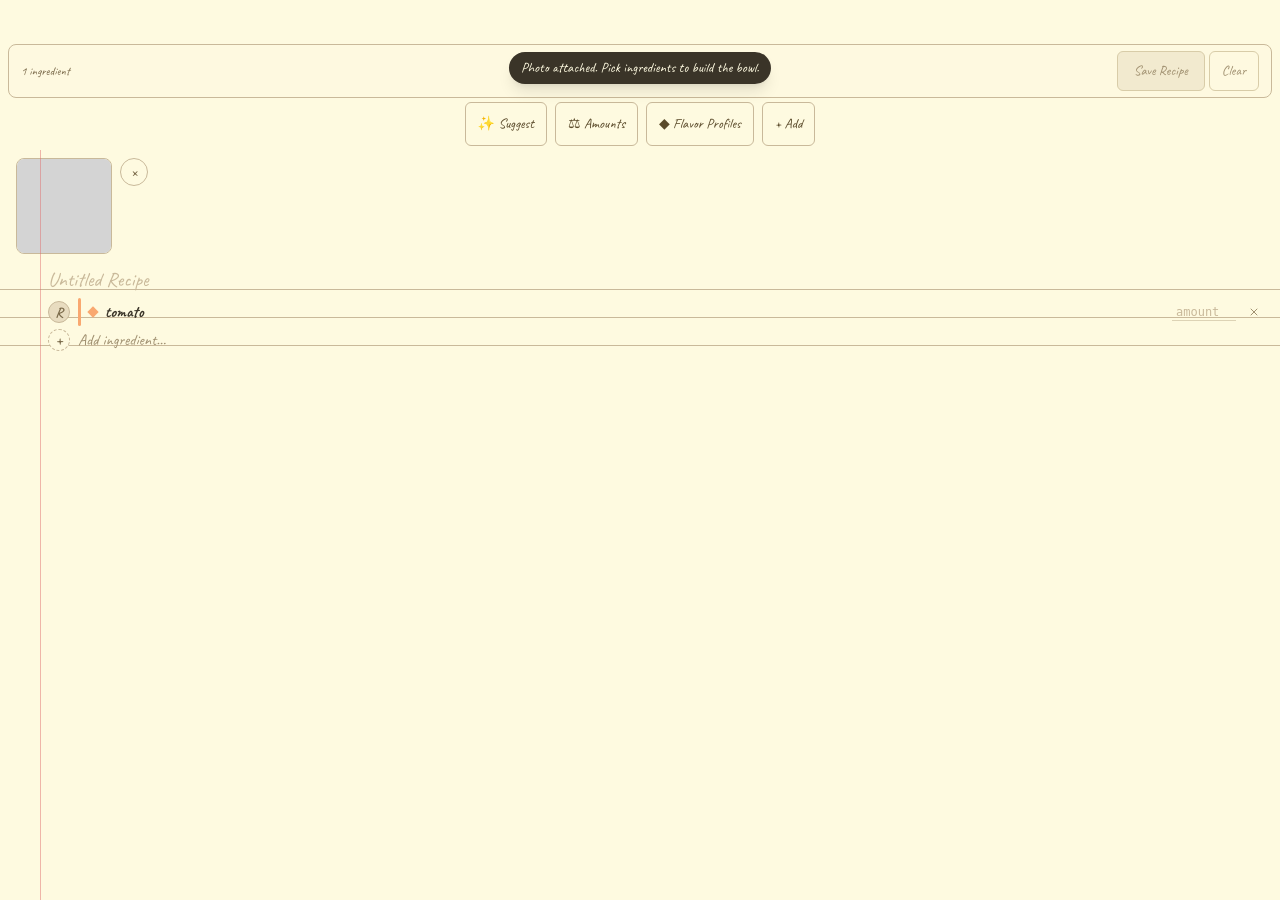
RecipeLabMobile — MAKE-PHOTO-PREVIEW (§5.3 image preview) › clearing the bowl (Clear button) revokes the object URL
Click the button "Clear": {"x": 1234, "y": 71} [1209,51,1259,91]
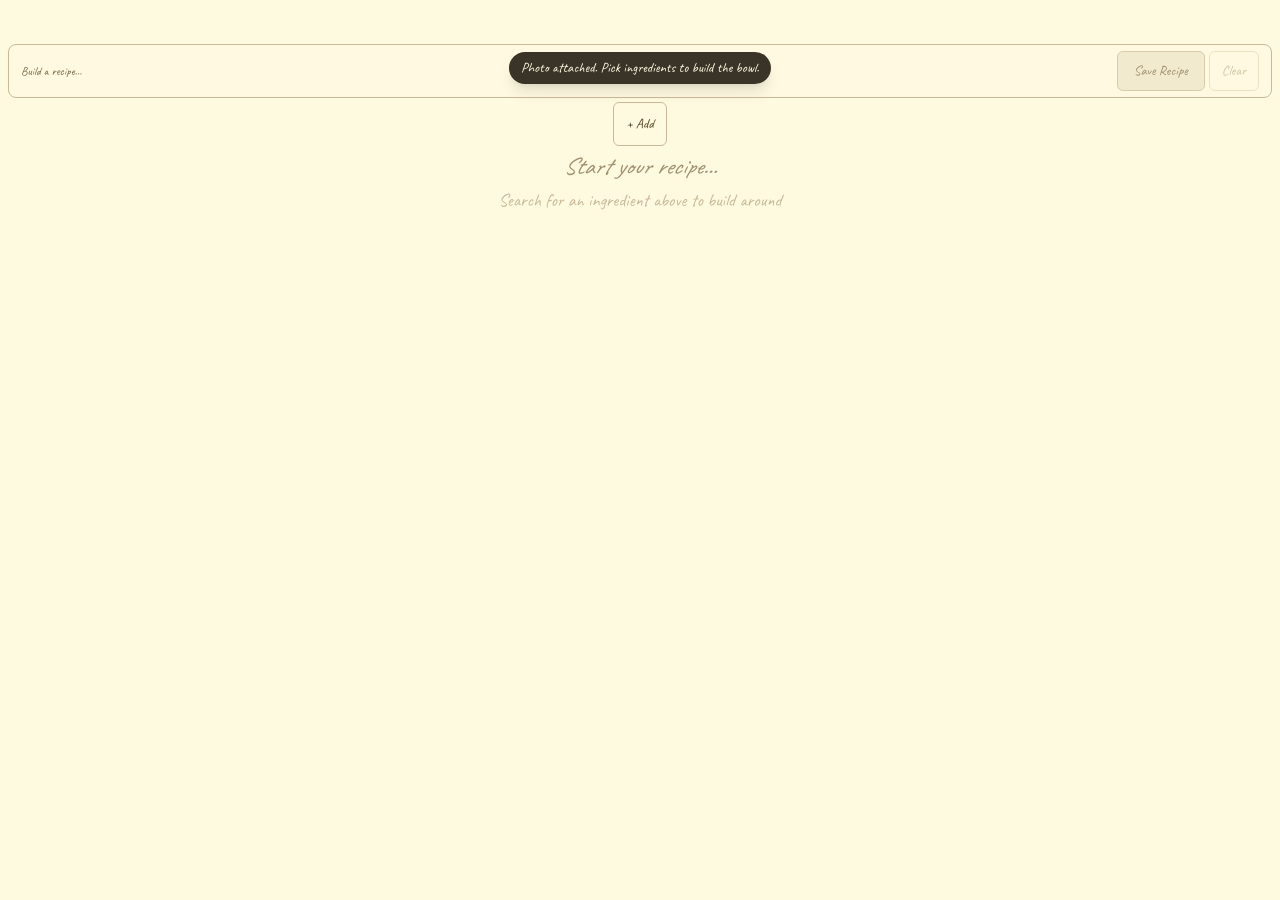
Expected: the picture with test id "recipe-photo-preview" is gone
